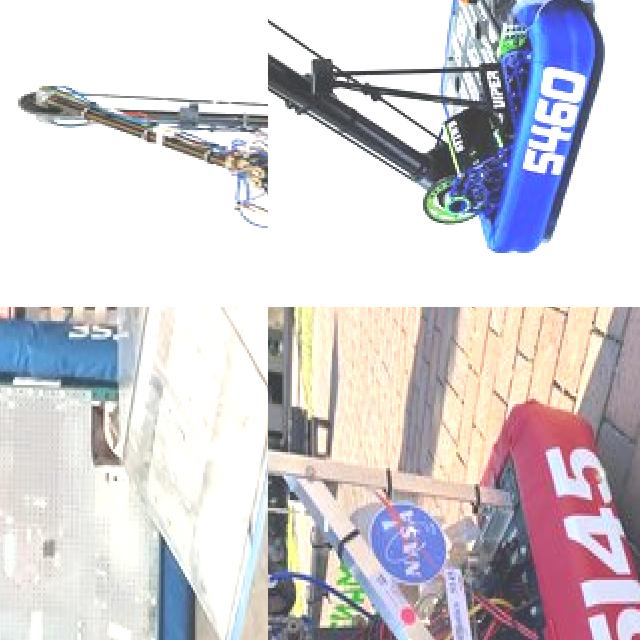FRC-Robots: (268, 360, 640, 640), (268, 0, 619, 253), (11, 0, 268, 282), (0, 307, 205, 640)
